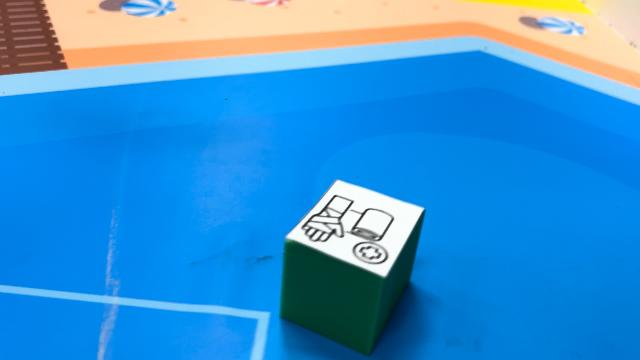bandage: (279, 178, 426, 356)
